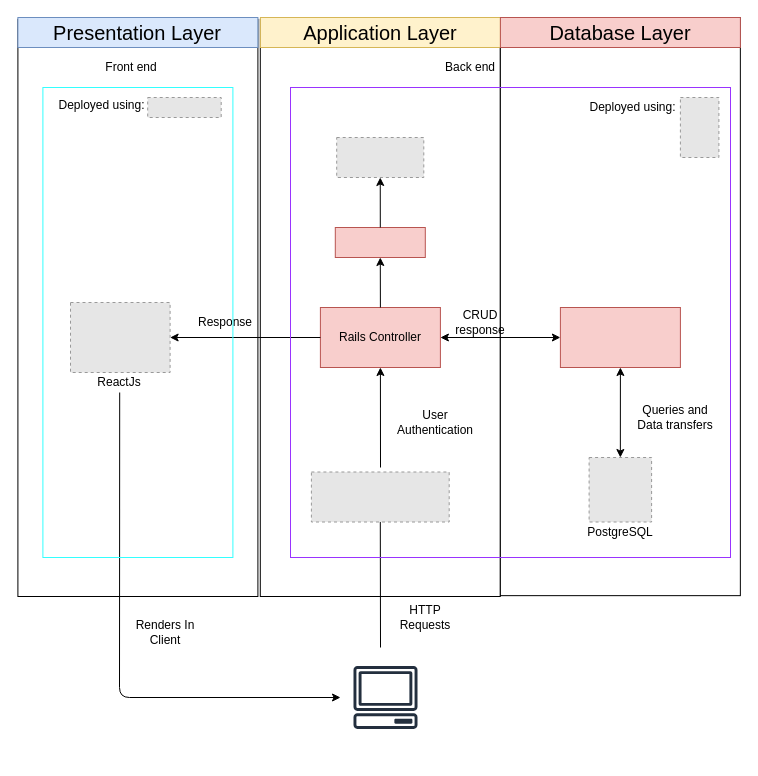
The diagram is 758 pixels wide and 776 high, and some of its shapes have lost their labels. Grey dashed boxes stand in for pictures. The centre of each missing label's shape, as x and y in pixels:
Action Mailer: [379,242]
Client: [385,697]
Rails Active Record: [619,337]
